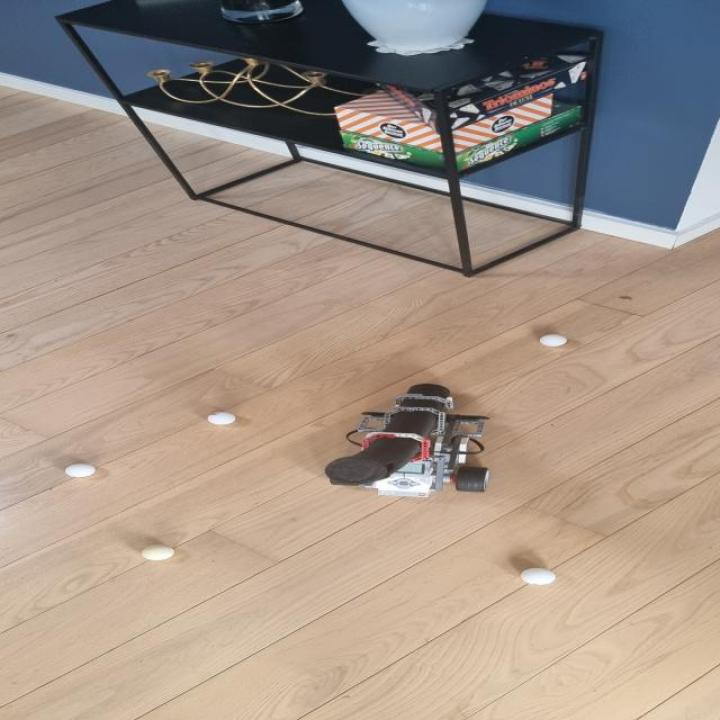robot: (324, 383, 492, 498)
white: (520, 568, 557, 586), (142, 545, 174, 562), (64, 463, 96, 477), (208, 412, 236, 425), (540, 334, 568, 347)
